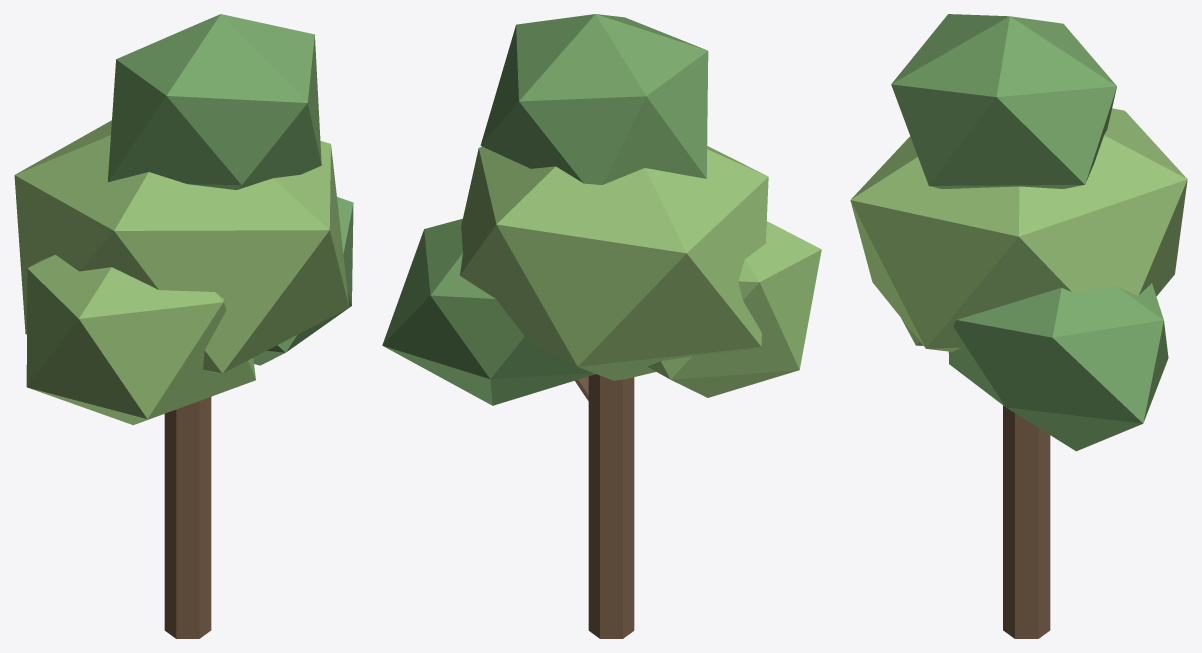
Rendered from SM_Tree_Round_01.fbx.
The picture shows the model from 3 angles, left to right: view 1: azimuth 30°, elevation 25°; view 2: azimuth 150°, elevation 25°; view 3: azimuth 270°, elevation 25°; orthographic projection. The views are drawn at different scales.
Parts seen in each view (by area): view 1: SM_Tree_Round_01; view 2: SM_Tree_Round_01; view 3: SM_Tree_Round_01.
Boxes of the visible parts, x1,y1,x2,y2 form: SM_Tree_Round_01: [14, 14, 353, 638]; SM_Tree_Round_01: [382, 14, 821, 638]; SM_Tree_Round_01: [850, 14, 1187, 638].
Bounding box in the file's own units: 2.28 × 3.79 × 1.85.
